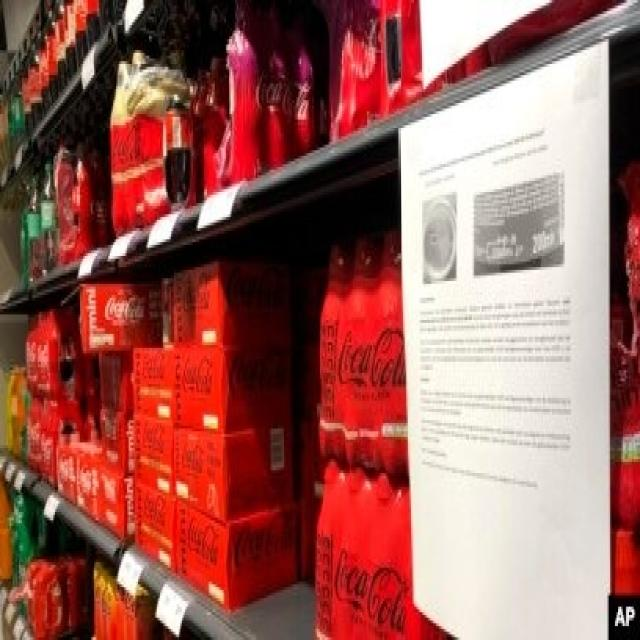coca cola: (328, 540, 412, 640), (334, 314, 406, 408)
